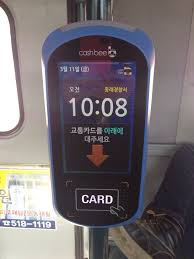terminal: (38, 18, 153, 233)
